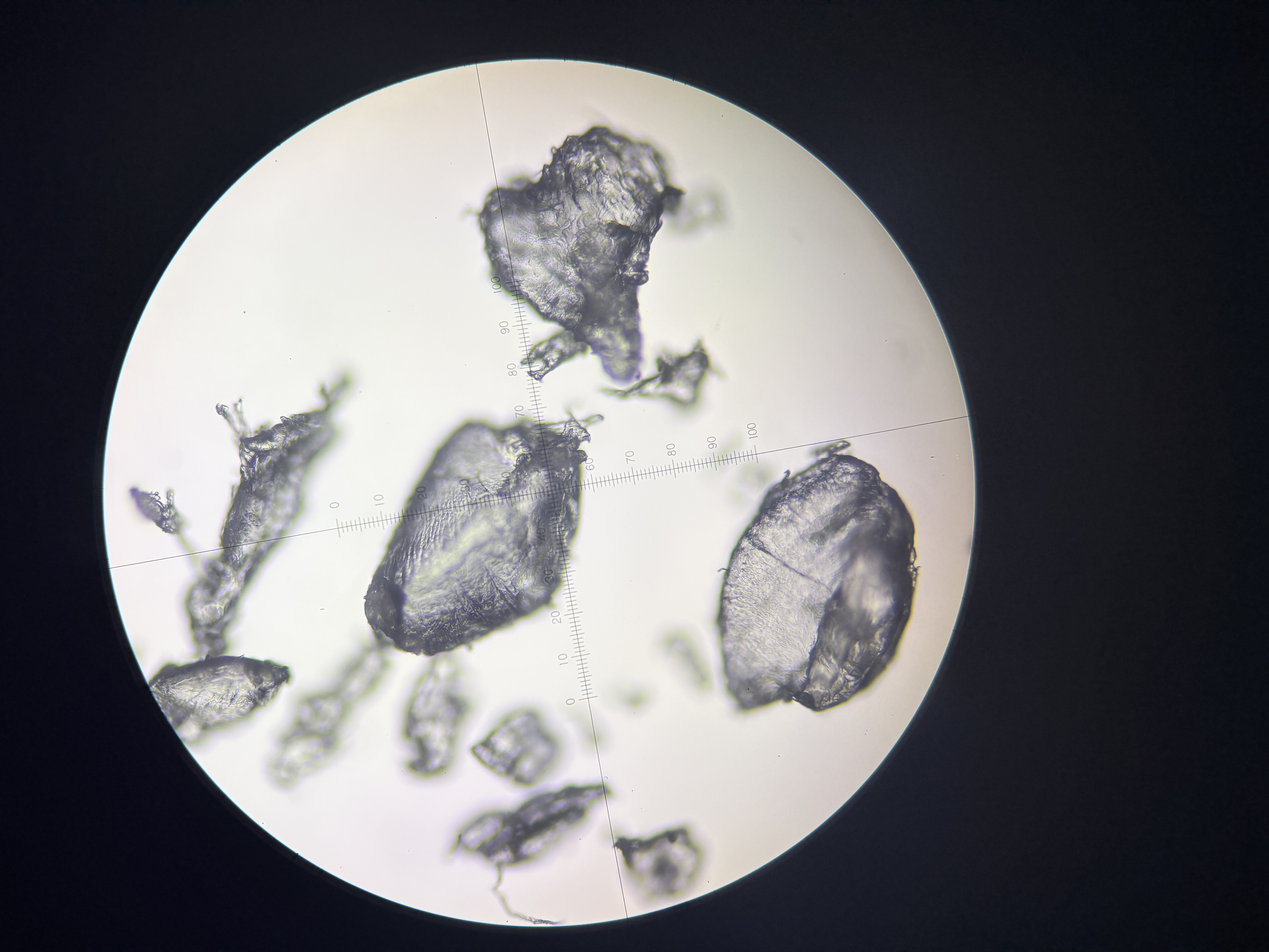microplastic: (361, 413, 605, 660), (713, 437, 922, 715), (476, 124, 689, 383), (185, 369, 356, 659), (447, 782, 614, 925), (271, 648, 391, 787), (147, 653, 292, 746), (597, 338, 726, 409), (403, 651, 466, 778), (470, 710, 561, 788), (611, 826, 706, 899), (519, 328, 590, 384), (130, 487, 185, 536), (667, 191, 726, 235), (670, 637, 710, 690), (574, 714, 605, 747), (560, 416, 593, 445), (738, 464, 768, 489), (713, 436, 743, 461), (620, 690, 653, 710), (728, 488, 750, 507)
